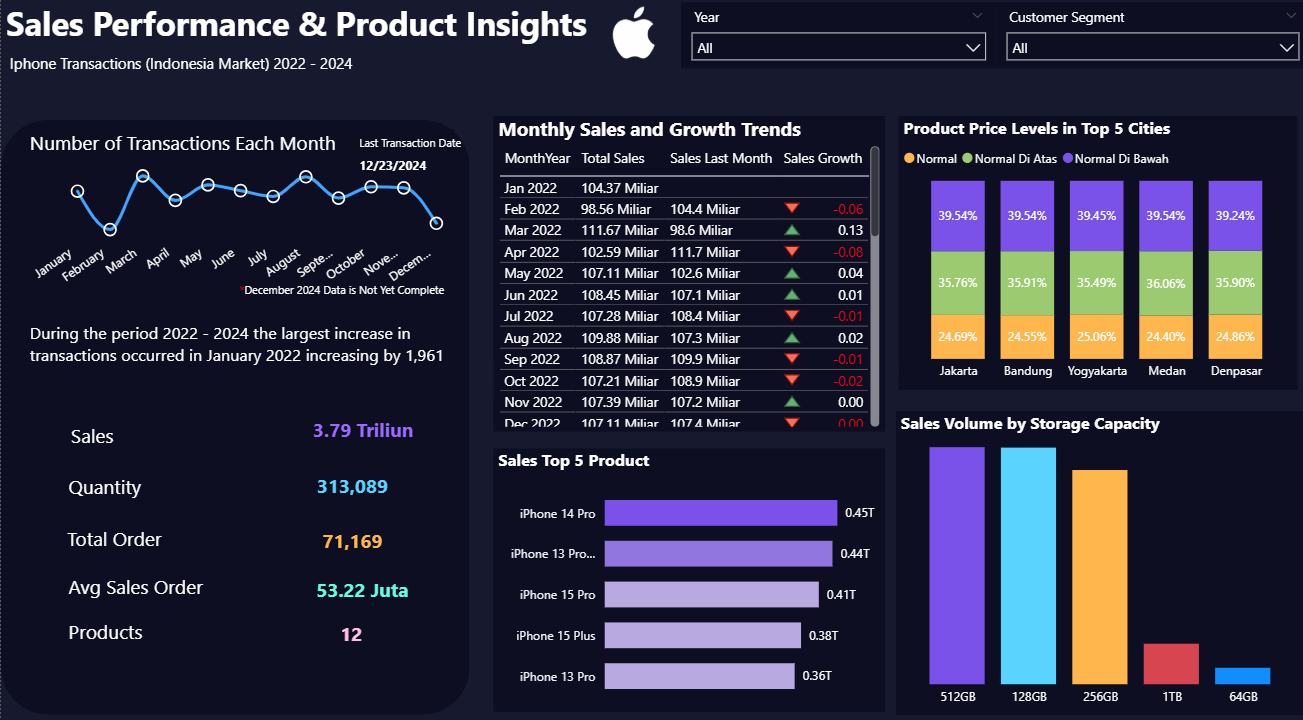

This screenshot's page, from the dashboard's own definition file:
{"tool":"powerbi","page":{"name":"Sales Peformance","canvas":[1280,720],"ordinal":0},"visuals":[{"type":"shape","box":[0,126,458.6,582.1],"z":0},{"type":"lineChart","title":"Number of Transactions Each Month","fields":{"Category":["DateTable.Date.Variation.Date Hierarchy.Month"],"Y":["Count(data_final.transaction_id)"]},"box":[23.2,135.7,420.7,161.4],"z":1000},{"type":"slicer","fields":{"Values":["DateTable.Date.Variation.Date Hierarchy.Year"]},"box":[665.2,11,308.2,64.8],"z":2000},{"type":"card","fields":{"Values":["data_final.Total Sales Display"]},"box":[242.9,404.8,222.3,52.1],"z":3000},{"type":"textbox","box":[63.1,417.2,86.4,39.8],"z":4000},{"type":"card","fields":{"Values":["data_final.Total Quantity"]},"box":[233.3,461.1,220.9,50.8],"z":5000},{"type":"textbox","box":[61.7,466.6,126.2,39.8],"z":6000},{"type":"cardVisual","fields":{"Data":["data_final.Last Transaction Date"]},"box":[337.5,126,144.3,69.7],"z":7000},{"type":"card","fields":{"Values":["data_final.Total Order"]},"box":[233.3,513.2,220.9,52.1],"z":8000},{"type":"textbox","box":[60.4,518.7,159.2,39.8],"z":9000},{"type":"card","fields":{"Values":["data_final.Avg Sales Order Display"]},"box":[242.9,561.2,220.9,52.1],"z":10000},{"type":"textbox","box":[61.7,565.4,159.2,39.8],"z":11000},{"type":"textbox","box":[61.7,609.3,159.2,41.2],"z":12000},{"type":"card","fields":{"Values":["Count(data_final.product_id)"]},"box":[231.9,605.5,220.9,50.8],"z":13000},{"type":"textbox","box":[229.2,277.2,230.5,41.2],"z":14000},{"type":"tableEx","title":"Monthly Sales and Growth Trends","fields":{"Values":["DateTable.MonthYear","data_final.Total Sales Display","data_final.Total Sales Last Month Display","data_final.Sales Growth %"]},"box":[481.6,122.1,382.8,308.7],"z":15000},{"type":"barChart","title":"Sales Top 5 Product","fields":{"Category":["data_final.product_name"],"Y":["Sum(data_final.total_harga)"]},"box":[481.6,447.3,382.8,258],"z":16000},{"type":"hundredPercentStackedColumnChart","title":"Product Price Levels in Top 5 Cities","fields":{"Category":["data_final.city"],"Y":["Count(data_final.customer_id)"],"Series":["data_final.keterangan_harga"]},"box":[878,122.3,390.1,267.8],"z":17000},{"type":"slicer","fields":{"Values":["RFMTable.Customer Segment"]},"box":[973.4,11,306.9,64.8],"z":19000},{"type":"clusteredColumnChart","title":"Sales Volume by Storage Capacity","fields":{"Category":["data_final.storage"],"Y":["Sum(data_final.quantity)"]},"box":[875,411.2,401.2,297.5],"z":20000},{"type":"textbox","box":[0,4.9,639.5,52.6],"z":22000},{"type":"shape","box":[28.1,322.8,420.7,51.4],"z":23000},{"type":"image","box":[585.7,7.3,67.3,67.3],"z":24000},{"type":"textbox","box":[3.7,55,351,40.4],"z":25000}]}

Visuals, with their boxes in screenshot pixels (x1, y1, x2, y2), scaled from the page's 1280x720 canvas onto the 1303x720 screenshot:
shape: bbox=[0, 126, 467, 708]
"Number of Transactions Each Month" lineChart: bbox=[24, 136, 452, 297]
slicer - DateTable.Date.Variation.Date Hierarchy.Year: bbox=[677, 11, 991, 76]
card - data_final.Total Sales Display: bbox=[247, 405, 474, 457]
textbox: bbox=[64, 417, 152, 457]
card - data_final.Total Quantity: bbox=[237, 461, 462, 512]
textbox: bbox=[63, 467, 191, 506]
cardVisual - data_final.Last Transaction Date: bbox=[344, 126, 490, 196]
card - data_final.Total Order: bbox=[237, 513, 462, 565]
textbox: bbox=[61, 519, 224, 558]
card - data_final.Avg Sales Order Display: bbox=[247, 561, 472, 613]
textbox: bbox=[63, 565, 225, 605]
textbox: bbox=[63, 609, 225, 650]
card - Count(data_final.product_id): bbox=[236, 606, 461, 656]
textbox: bbox=[233, 277, 468, 318]
"Monthly Sales and Growth Trends" tableEx: bbox=[490, 122, 880, 431]
"Sales Top 5 Product" barChart: bbox=[490, 447, 880, 705]
"Product Price Levels in Top 5 Cities" hundredPercentStackedColumnChart: bbox=[894, 122, 1291, 390]
slicer - RFMTable.Customer Segment: bbox=[991, 11, 1302, 76]
"Sales Volume by Storage Capacity" clusteredColumnChart: bbox=[891, 411, 1299, 709]
textbox: bbox=[0, 5, 651, 58]
shape: bbox=[29, 323, 457, 374]
image: bbox=[596, 7, 665, 75]
textbox: bbox=[4, 55, 361, 95]
